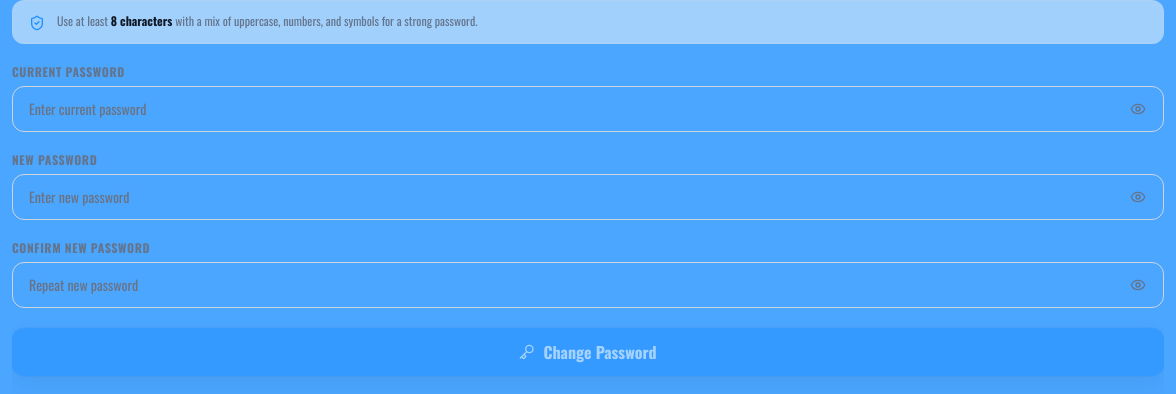
Scenario: ProfilePasswordSection › uses field-specific visibility labels and toggles password field types
Click the button named "Show current password" at (1138, 109), box [1124,95,1152,123]
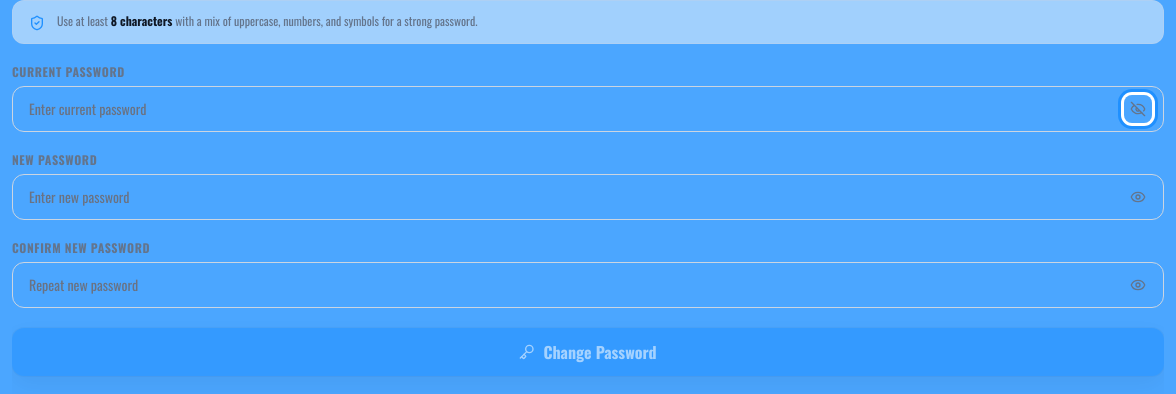
Check: the button named "Hide current password" is shown, box [1124,95,1152,123]
